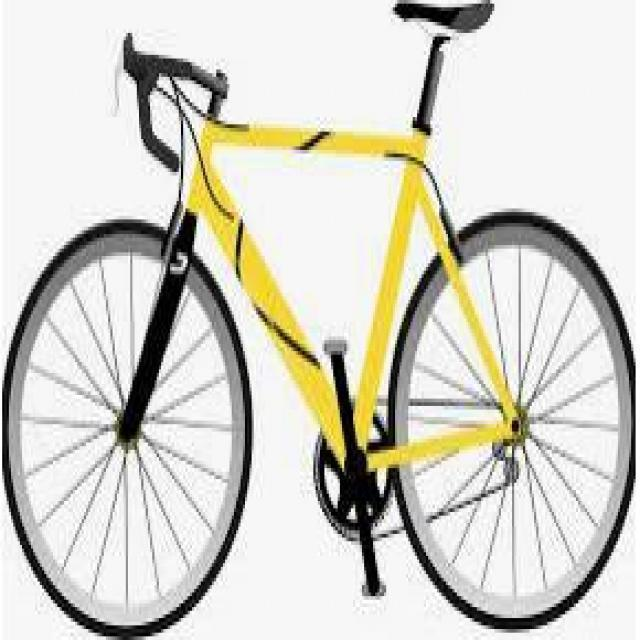bicycle: (28, 23, 635, 608)
